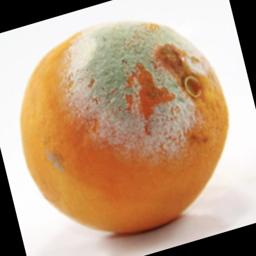Orange Rotten: (9, 6, 256, 256)
